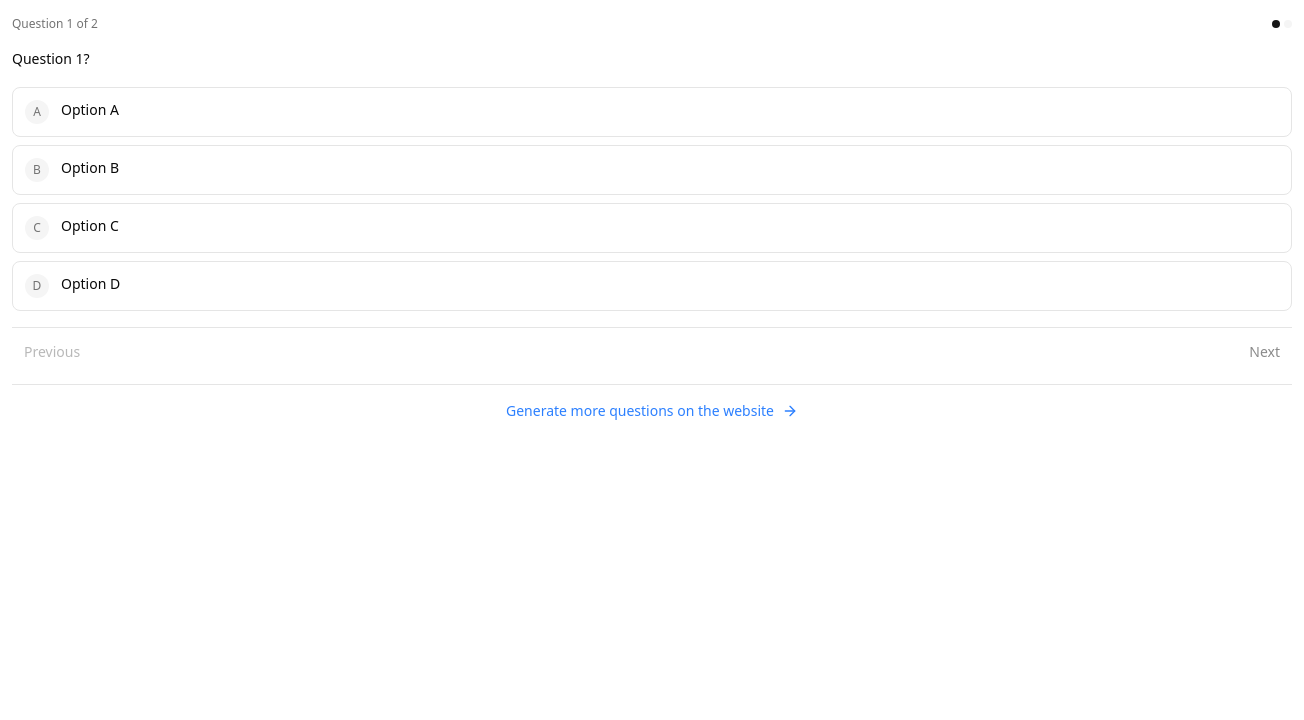
it: QuizView › navigation › enables Next button after answering
Check: the button "Next" is disabled, box x1=1237 y1=336 x2=1292 y2=368
Click the text "Option A".
click(90, 109)  # box x1=61 y1=100 x2=119 y2=119
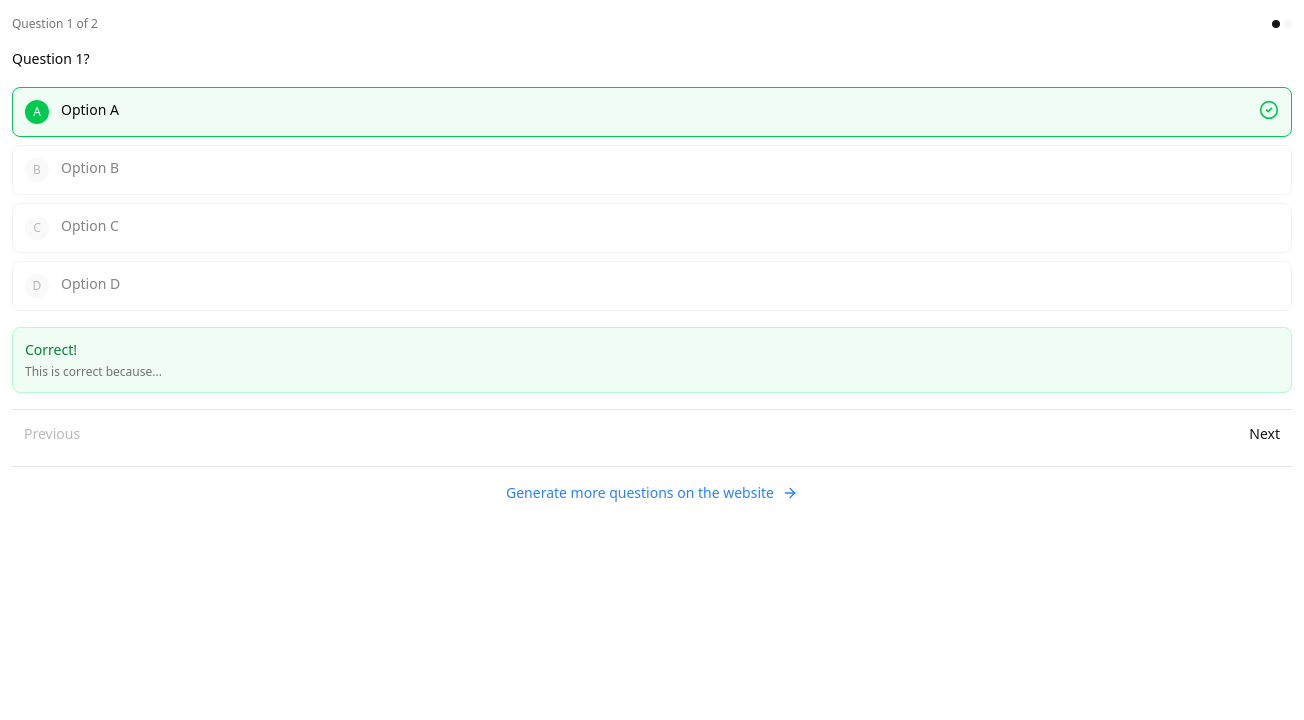
Check: the button "Next" is enabled, box x1=1237 y1=418 x2=1292 y2=450
